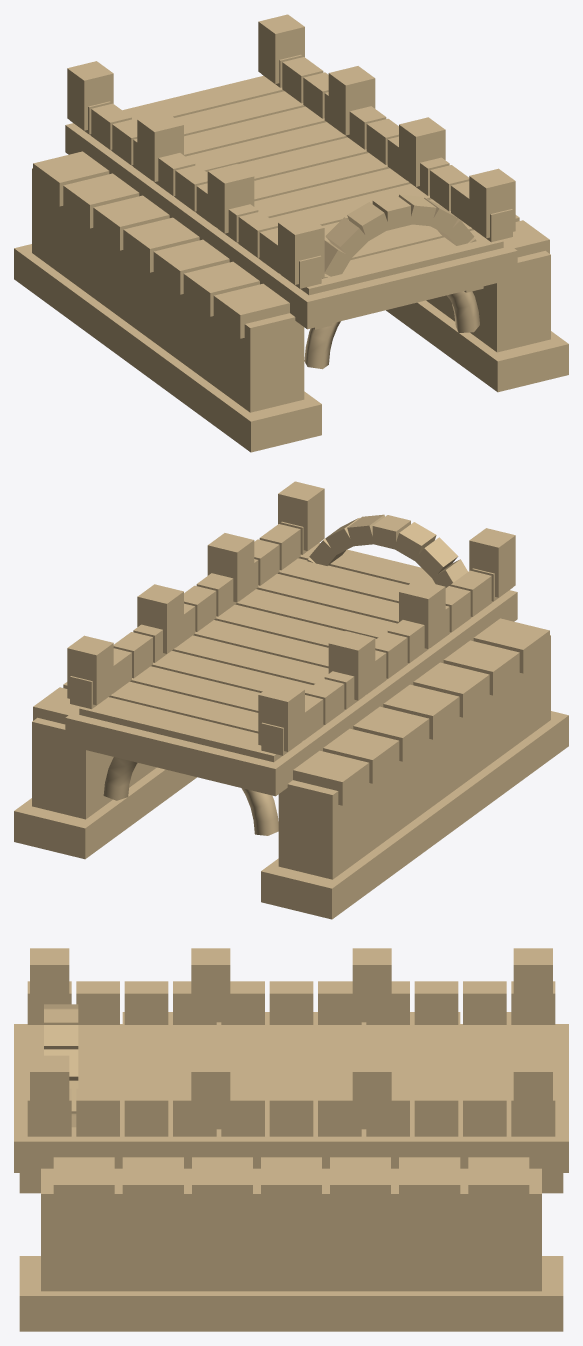
Rendered from StoneBridge.glb.
The picture shows the model from 3 angles, top to bottom: view 1: azimuth 30°, elevation 25°; view 2: azimuth 150°, elevation 25°; view 3: azimuth 270°, elevation 25°; orthographic projection. The views are drawn at different scales.
Visible parts, largest first — view 1: hand-pump-static-stone-bridge-warm-masonry, hand-pump-static-stone-bridge-road-stone; view 2: hand-pump-static-stone-bridge-warm-masonry, hand-pump-static-stone-bridge-road-stone; view 3: hand-pump-static-stone-bridge-warm-masonry, hand-pump-static-stone-bridge-road-stone.
Part boxes in pixels (x1=…): hand-pump-static-stone-bridge-warm-masonry: x1=14, y1=14, x2=568, y2=452; hand-pump-static-stone-bridge-road-stone: x1=65, y1=76, x2=517, y2=329; hand-pump-static-stone-bridge-warm-masonry: x1=14, y1=481, x2=568, y2=919; hand-pump-static-stone-bridge-road-stone: x1=65, y1=543, x2=517, y2=796; hand-pump-static-stone-bridge-warm-masonry: x1=19, y1=948, x2=563, y2=1331; hand-pump-static-stone-bridge-road-stone: x1=14, y1=1024, x2=568, y2=1172.
Bounding box in the file's own units: 3.66 × 2.22 × 4.82.
